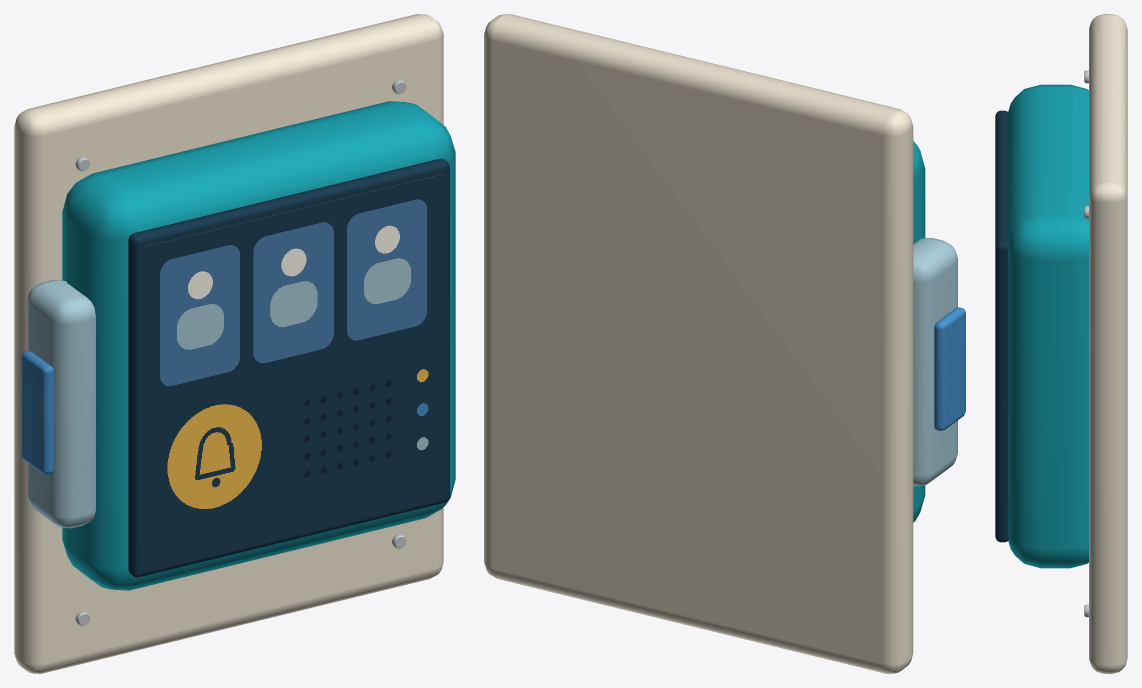
The model's file is medical-16.glb.
3 views of the same model, side by side, from view 1: azimuth 30°, elevation 25°; view 2: azimuth 150°, elevation 25°; view 3: azimuth 270°, elevation 25° (orthographic). The views are drawn at different scales.
Parts seen in each view (by area): view 1: 16_Team_Body; view 2: 16_Team_Body; view 3: 16_Team_Body.
Part boxes in pixels (x1=…): 16_Team_Body: x1=14, y1=14, x2=455, y2=673; 16_Team_Body: x1=484, y1=14, x2=965, y2=673; 16_Team_Body: x1=995, y1=14, x2=1127, y2=673.
Bounding box in the file's own units: 0.801 × 0.98 × 0.241.
1 material, 1 textured.
